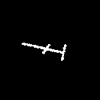double_crochet: (22, 43, 65, 60)
